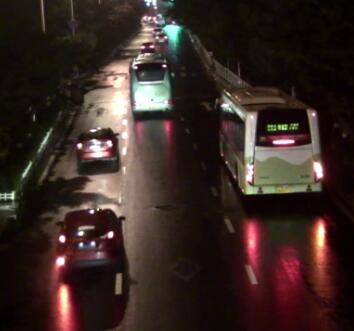bus: (216, 86, 325, 196), (128, 53, 173, 116)
car: (55, 208, 125, 273), (71, 128, 121, 162), (152, 31, 169, 42), (140, 41, 154, 52), (150, 26, 166, 34)
